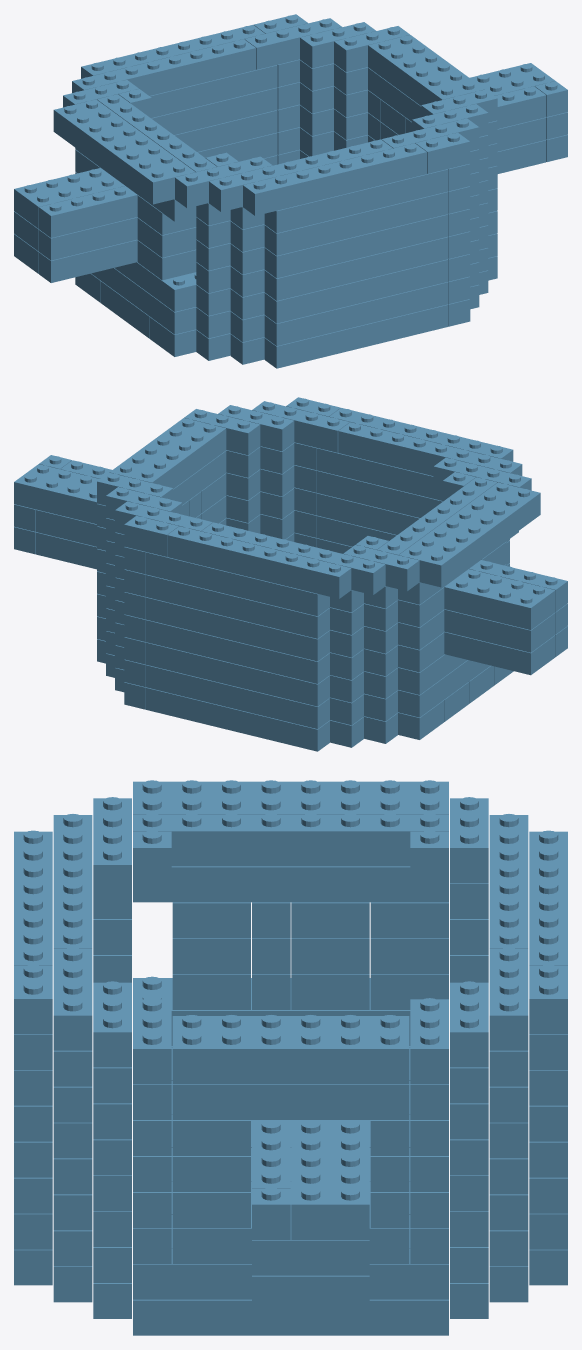
Rendered from collab_pot-L4V2_raw.glb.
3 renders of one model, top to bottom at view 1: azimuth 30°, elevation 25°; view 2: azimuth 150°, elevation 25°; view 3: azimuth 270°, elevation 25°, orthographic. The views are drawn at different scales.
Bounding box in the file's own units: 23.98 × 8.13 × 13.98.
